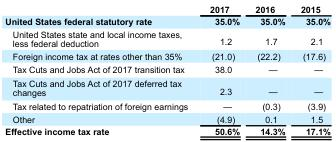table: (4, 3, 329, 136)
table column: (4, 3, 198, 136), (198, 3, 246, 136), (246, 3, 292, 136), (292, 3, 329, 136)
table column header: (4, 3, 329, 15)
table row: (4, 75, 329, 99), (4, 27, 329, 49), (4, 49, 329, 62), (4, 62, 329, 75), (4, 99, 329, 112), (4, 3, 329, 15), (4, 15, 329, 27), (4, 112, 329, 124), (4, 124, 329, 136)
